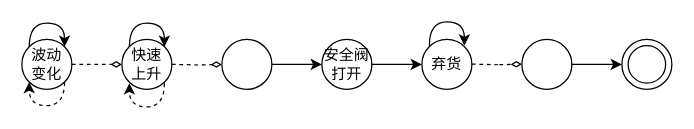
This 694x129 diagram has some shape labels left out. The centre of each missing label's shape, as x and y in pixels:
"安全阀关闭" goes at pixel 546 63.
"超过安全范围" goes at pixel 246 63.
